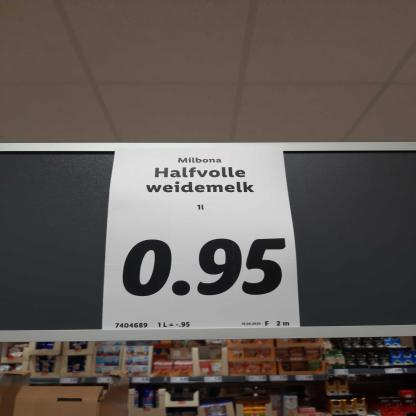prtg: (103, 148, 303, 331)
